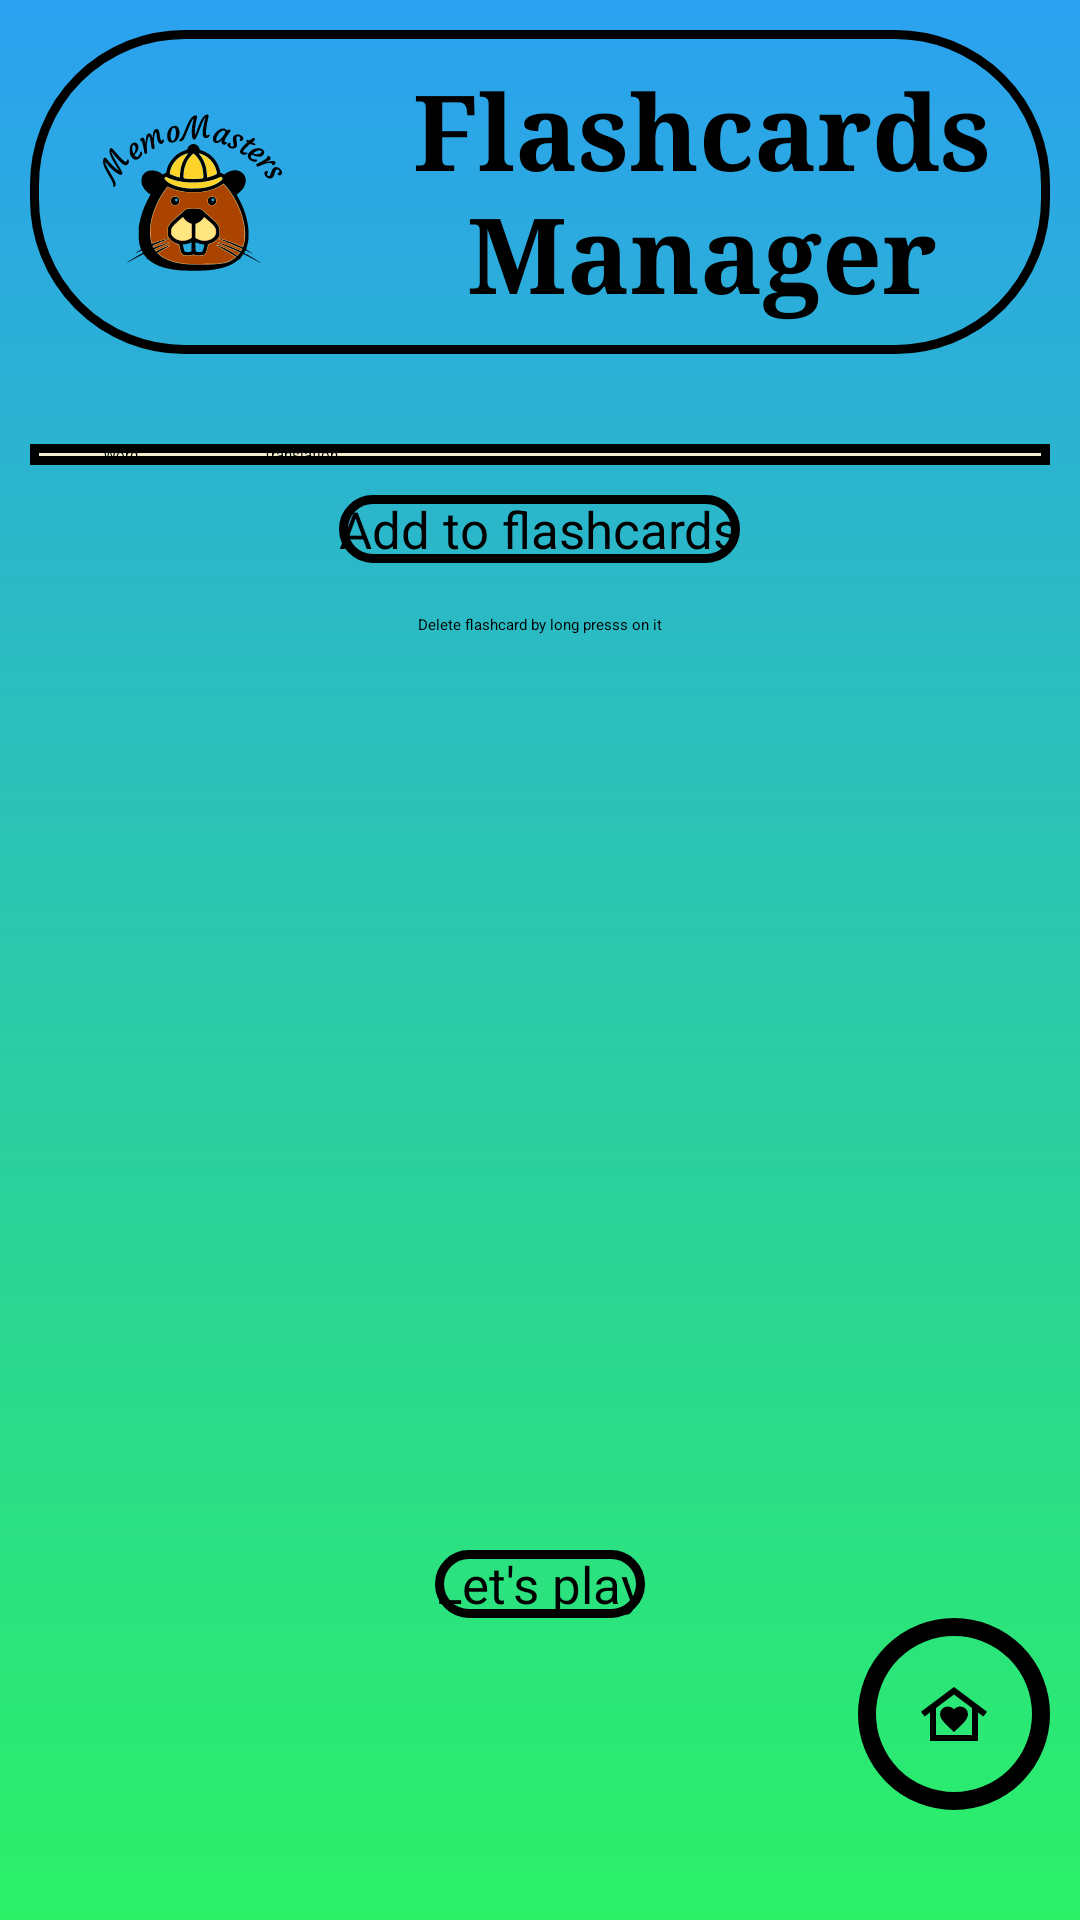

Screen size 1080x1920. Icon name, then its center in pixels as [x,y]:
family home: [954,1714]
